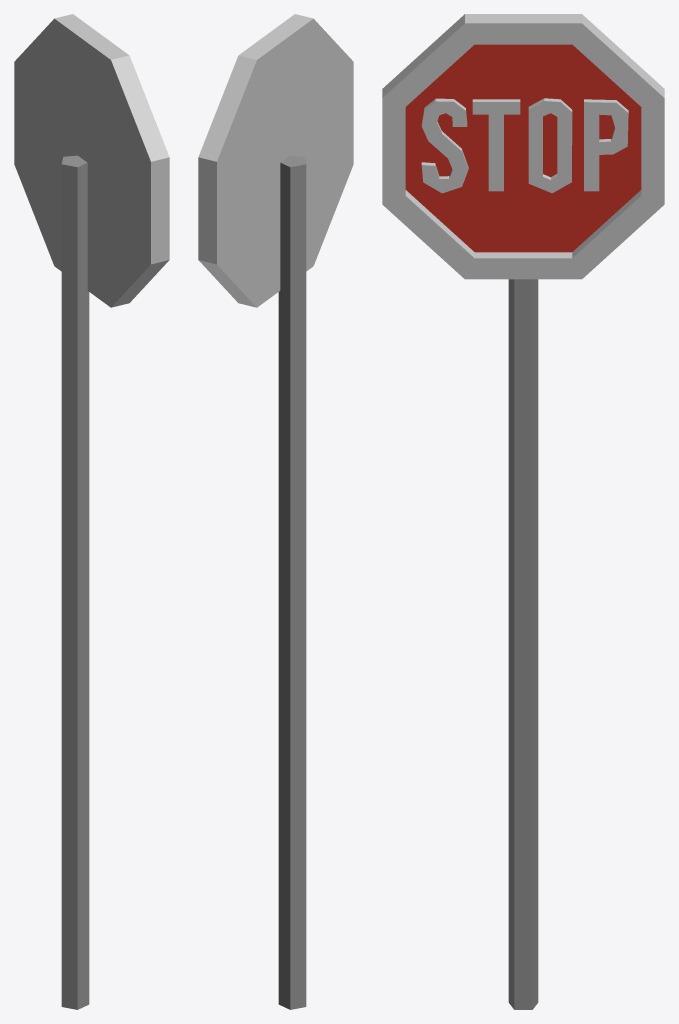
The model's file is Sign_Stop.glb.
3 renders of one model, left to right at view 1: azimuth 30°, elevation 25°; view 2: azimuth 150°, elevation 25°; view 3: azimuth 270°, elevation 25°, orthographic. The views are drawn at different scales.
Visible parts, largest first — view 1: Stop_Cylinder; view 2: Stop_Cylinder; view 3: Stop_Cylinder.
Boxes of the visible parts, left/top/right/bottom form: Stop_Cylinder: left=14, top=14, right=169, bottom=1009; Stop_Cylinder: left=198, top=14, right=353, bottom=1009; Stop_Cylinder: left=382, top=14, right=664, bottom=1009.
Bounding box in the file's own units: 0.0233 × 0.5377 × 0.1384.
